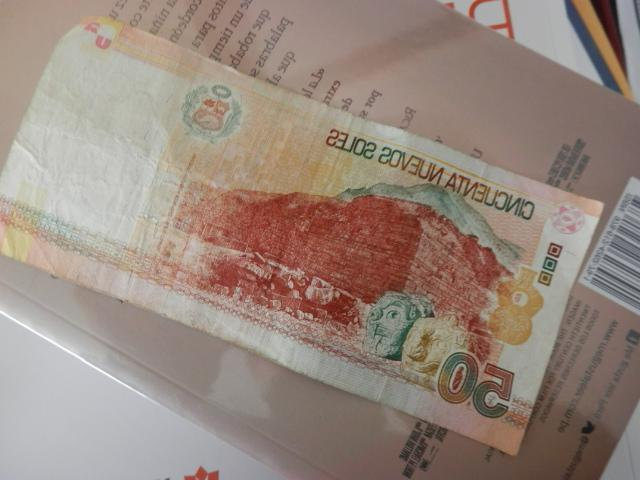B50: (1, 16, 603, 457)
